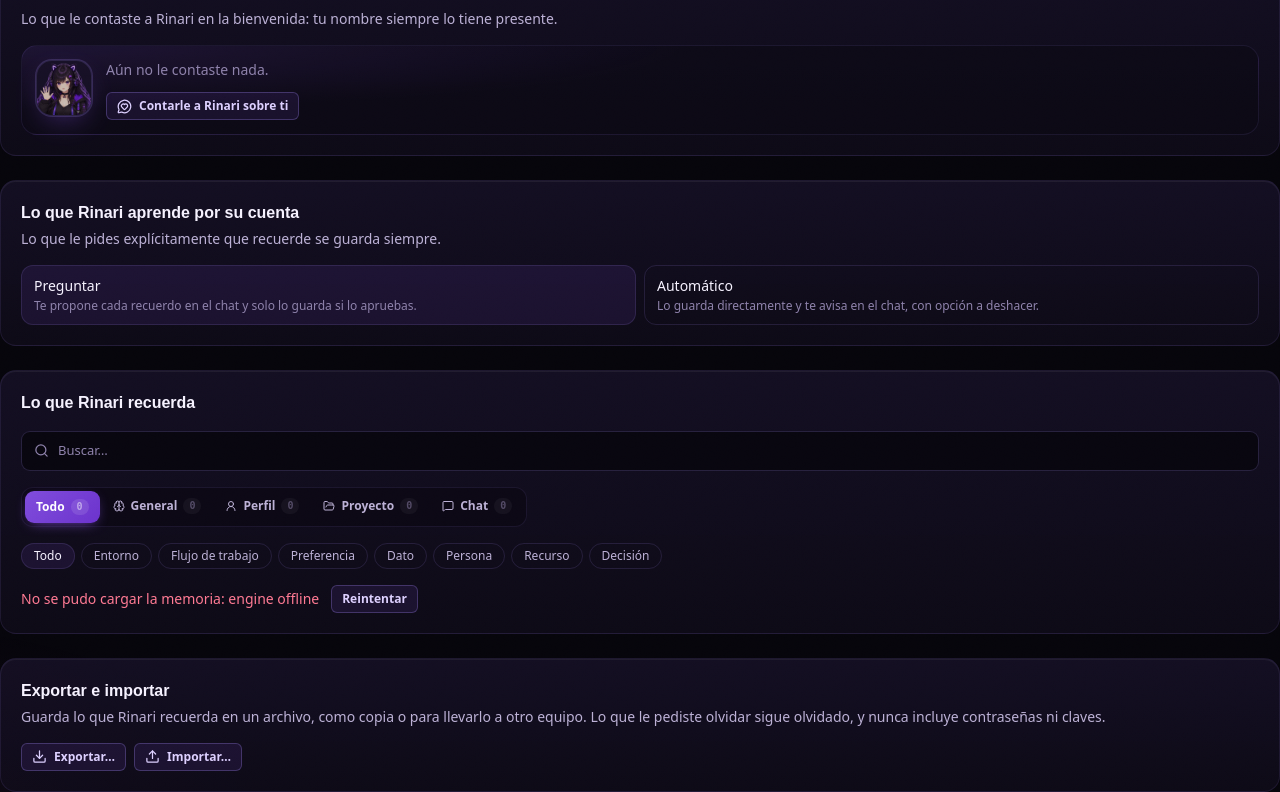
Test: informa un fallo de carga y permite reintentar
(page scrolled)
Check: the message shows "engine offline", box [21,588,319,608]
Click the button "Reintentar". click: (375,598)
box: [331,584,418,612]
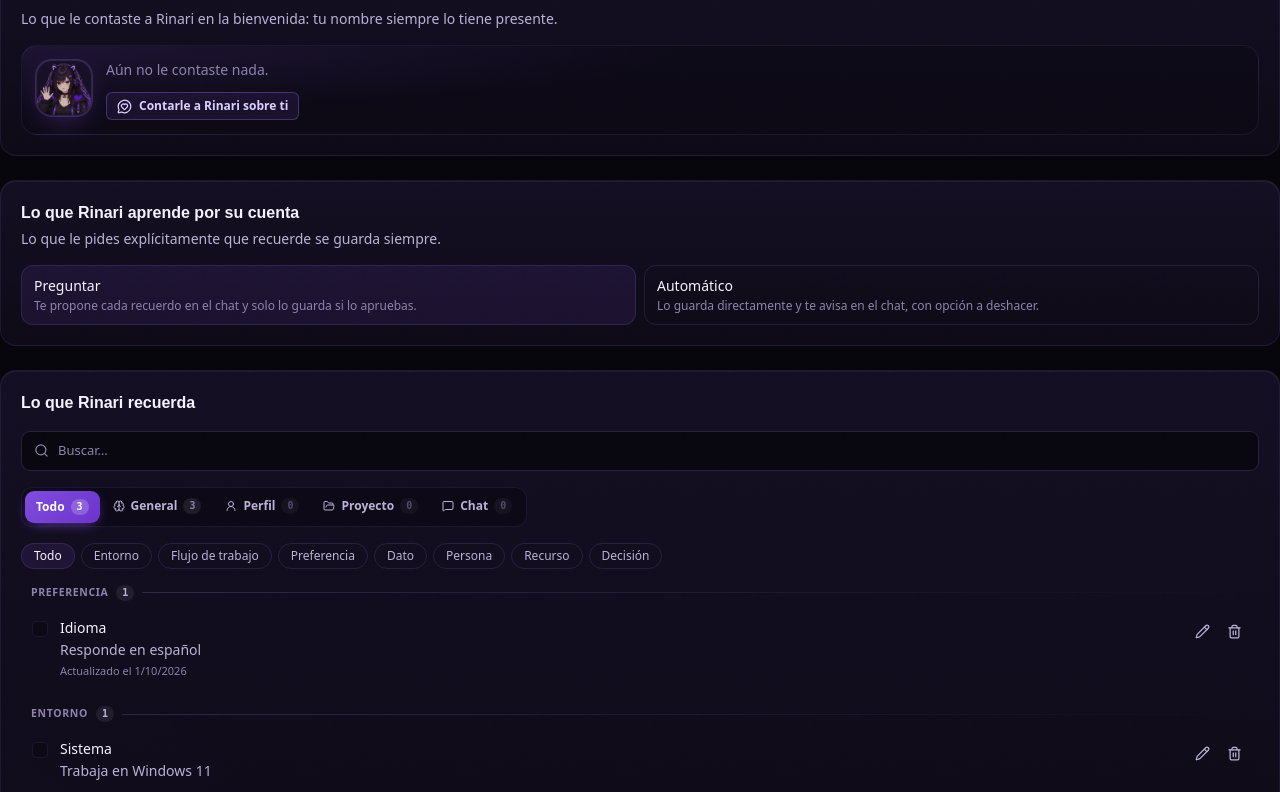
Check: the text "Responde en español" is shown, box [60,640,201,658]
